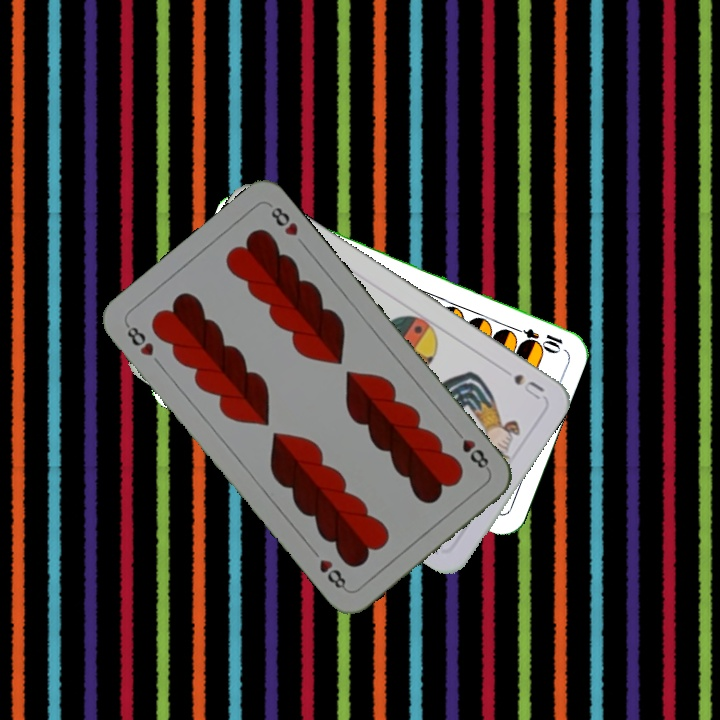E10: (508, 322, 566, 352)
H8: (450, 424, 492, 474), (121, 320, 157, 359)
SU: (509, 369, 547, 402)
